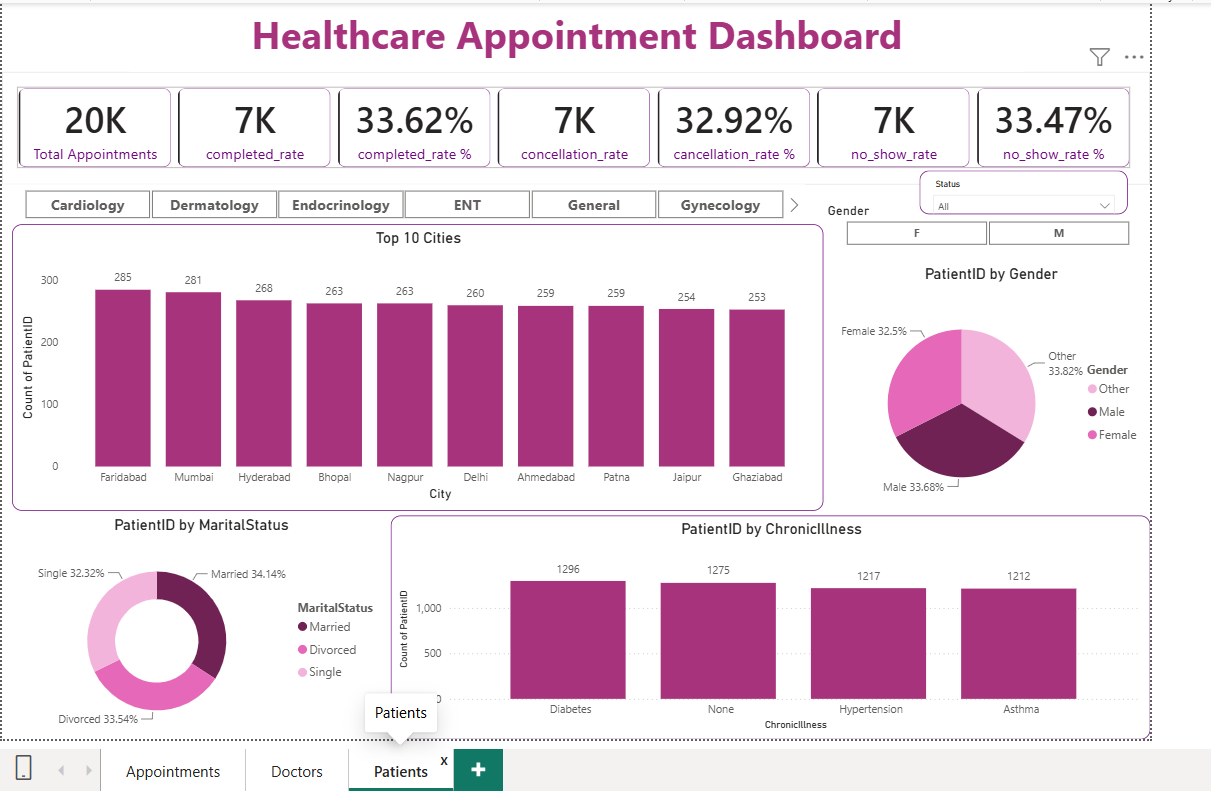

Layout of this report page (visuals, bound fields, positions):
{"tool":"powerbi","page":{"name":"Patients ","canvas":[1280,820],"ordinal":2},"visuals":[{"type":"cardVisual","fields":{"Data":["appointments.total_appointments","appointments.completed_rate","appointments.completed_rate %","appointments.concellation_rate","appointments.cancellation_rate %","appointments.no_show_rate","appointments.no_show_rate %"]},"box":[0,76.6,1280,124.7],"z":0},{"type":"slicer","fields":{"Values":["appointments.Department"]},"box":[0,201.9,894.1,44.6],"z":1000},{"type":"slicer","title":"Gender","fields":{"Values":["doctors.Gender"]},"box":[915,222.8,364.9,48.7],"z":2000},{"type":"textbox","box":[141.4,0,997.2,76.6],"z":3000},{"type":"pieChart","title":"PatientID by Gender","fields":{"Category":["patients.Gender"],"Y":["CountNonNull(patients.PatientID)"]},"box":[924.7,291.1,355.1,279.9],"z":3002},{"type":"clusteredColumnChart","title":"Top 10 Cities ","fields":{"Category":["patients.City"],"Y":["CountNonNull(patients.PatientID)"]},"box":[11.1,246.5,903.8,318.9],"z":3003},{"type":"clusteredColumnChart","title":"PatientID by ChronicIllness","fields":{"Category":["patients.ChronicIllness"],"Y":["CountNonNull(patients.PatientID)"]},"box":[433.1,571,846.7,249.3],"z":3004},{"type":"donutChart","title":"PatientID by MaritalStatus","fields":{"Category":["patients.MaritalStatus"],"Y":["CountNonNull(patients.PatientID)"]},"box":[11.1,571,422,249.3],"z":3005},{"type":"slicer","fields":{"Values":["appointments.Status"]},"box":[1022.2,186.6,232.1,48.9],"z":3006}]}

Visuals, with their boxes on the page's 1280x820 design canvas (x1, y1, x2, y2). These are canvas units, not pixel positions in the 1211x791 screenshot, which may show the page scaled, cropped or inside an application window:
cardVisual - appointments.total_appointments x appointments.completed_rate: x1=0, y1=77, x2=1280, y2=201
slicer - appointments.Department: x1=0, y1=202, x2=894, y2=246
"Gender" slicer: x1=915, y1=223, x2=1280, y2=272
textbox: x1=141, y1=0, x2=1139, y2=77
"PatientID by Gender" pieChart: x1=925, y1=291, x2=1280, y2=571
"Top 10 Cities " clusteredColumnChart: x1=11, y1=246, x2=915, y2=565
"PatientID by ChronicIllness" clusteredColumnChart: x1=433, y1=571, x2=1280, y2=820
"PatientID by MaritalStatus" donutChart: x1=11, y1=571, x2=433, y2=820
slicer - appointments.Status: x1=1022, y1=187, x2=1254, y2=236
